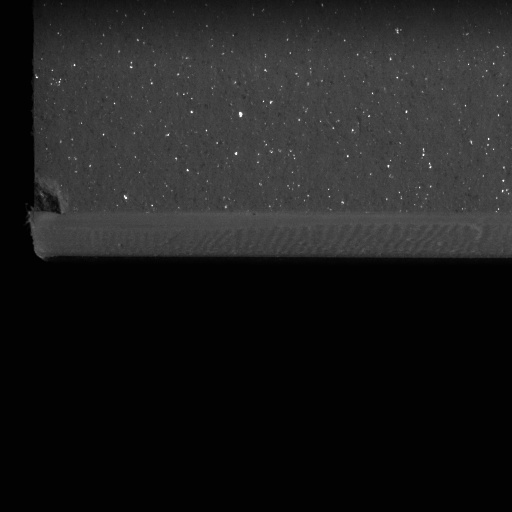bengque: (29, 175, 65, 220)
